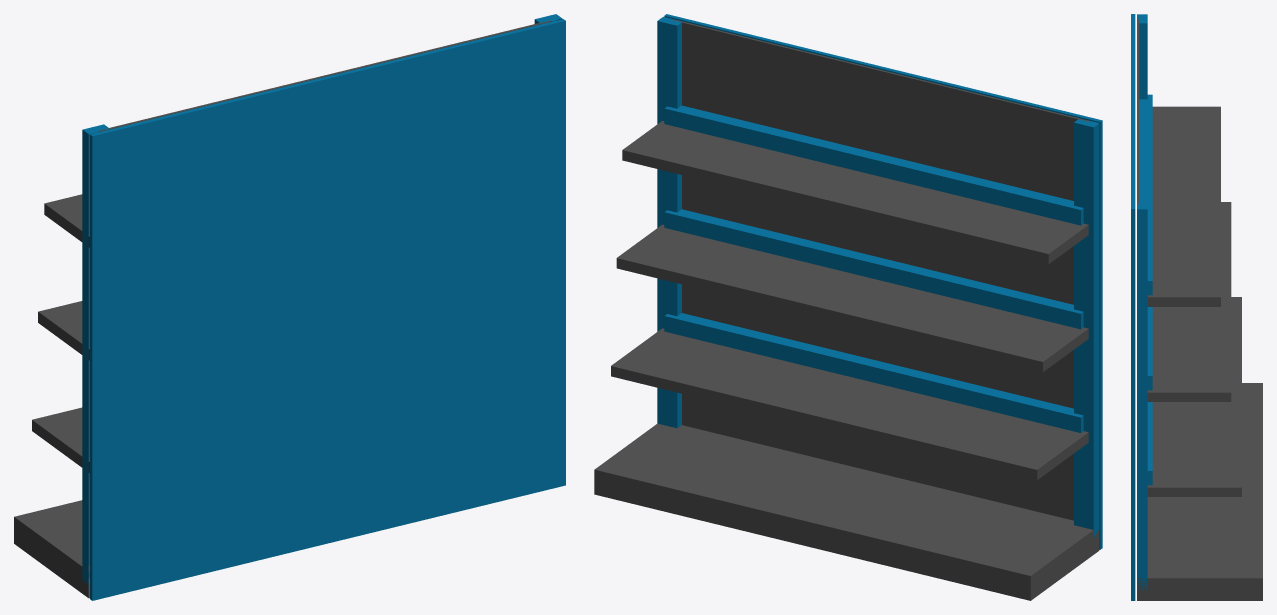
The model's file is ShelfSide.fbx.
3 renders of one model, left to right at view 1: azimuth 30°, elevation 25°; view 2: azimuth 150°, elevation 25°; view 3: azimuth 270°, elevation 25°, orthographic. The views are drawn at different scales.
Parts seen in each view (by area): view 1: Cube; view 2: Cube; view 3: Cube.
Part boxes in pixels (x1=…): Cube: x1=14, y1=14, x2=565, y2=600; Cube: x1=594, y1=14, x2=1102, y2=600; Cube: x1=1131, y1=14, x2=1262, y2=600.
Bounding box in the file's own units: 440 × 412 × 126.
